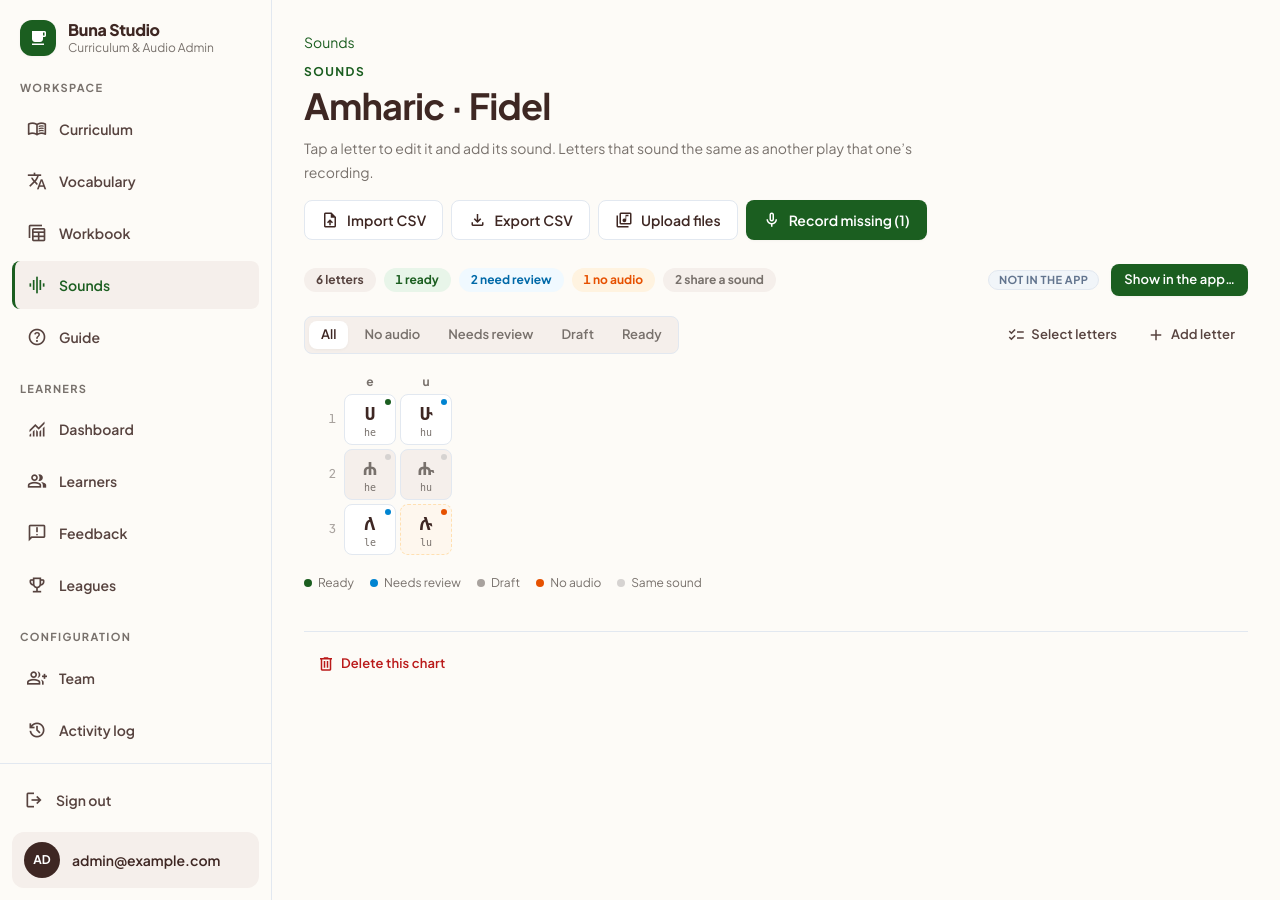
Test: a chart › marks many letters ready at once, skipping any that cannot be
The width and height of the screenshot is (1280, 900).
Click the button "Select letters" at (1062, 335), box [994,319,1130,351]
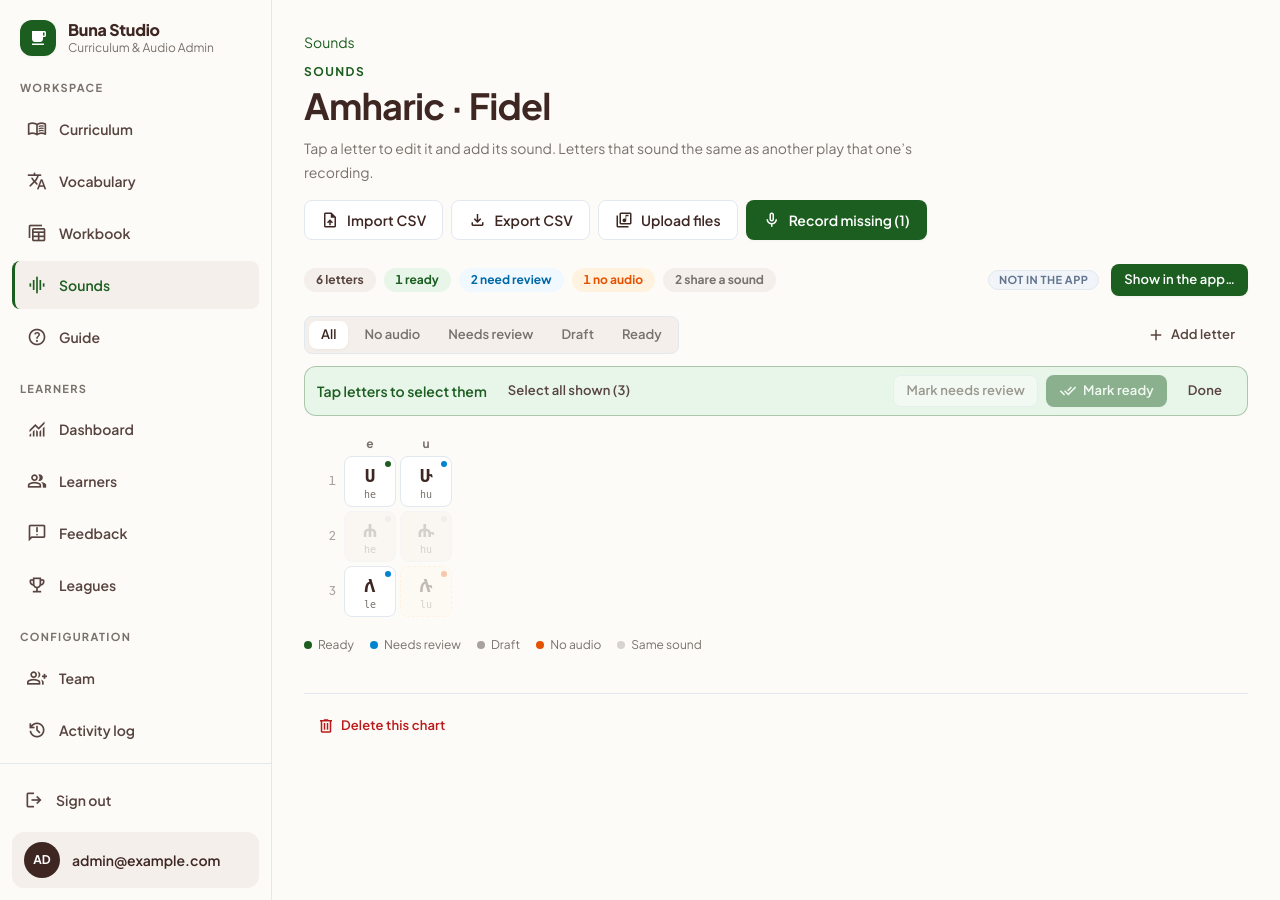
Expected: the button with aria-label "ሉ, lu: No audio" is disabled, [400,566,452,616]
Expected: the button "Mark ready" is disabled, [1046,374,1167,406]
Only those that need review, from the filter.
Click the button "Needs review" at (491, 335), box [436,321,546,348]
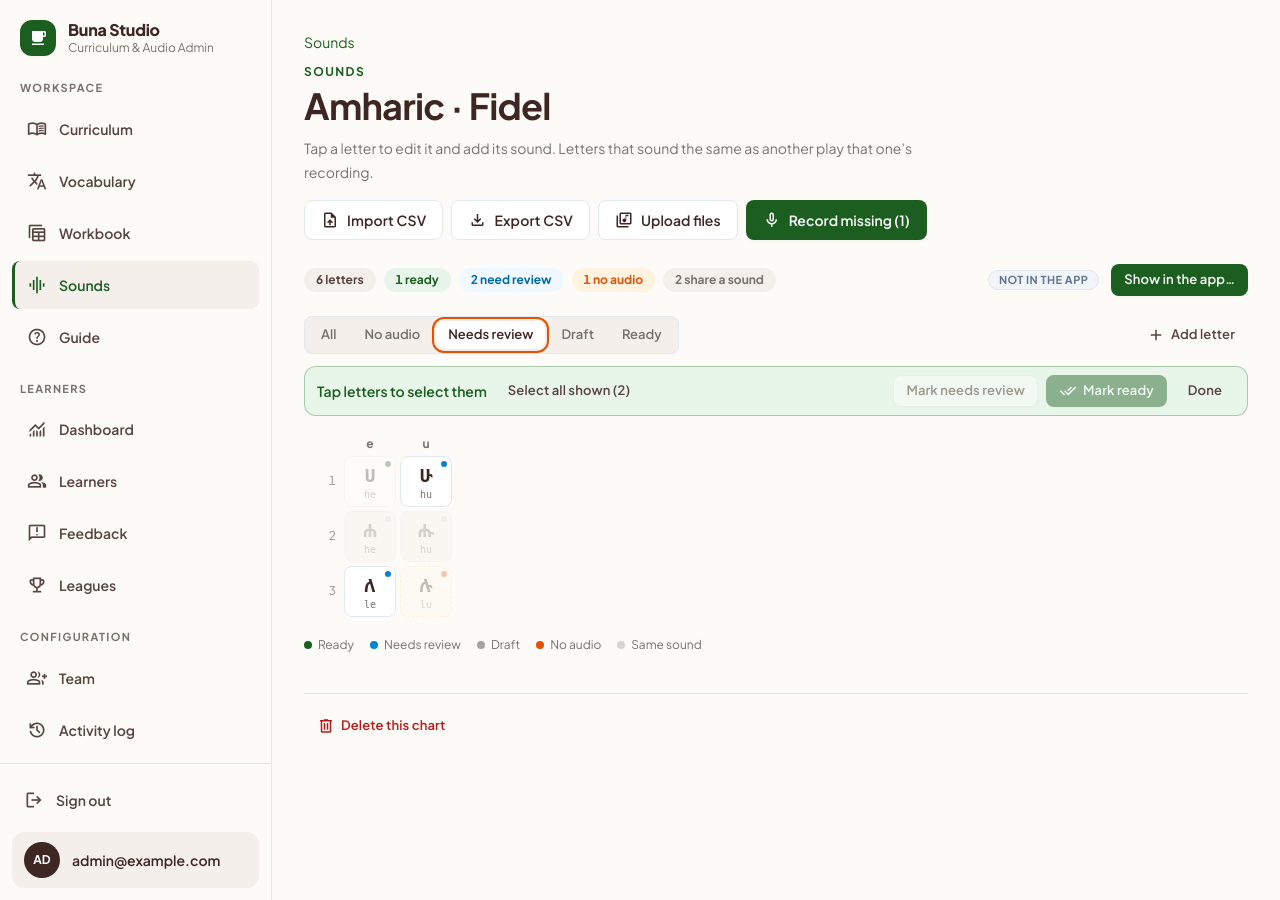
Click the button "Select all shown (2)" at (569, 390), box [495,374,643,406]
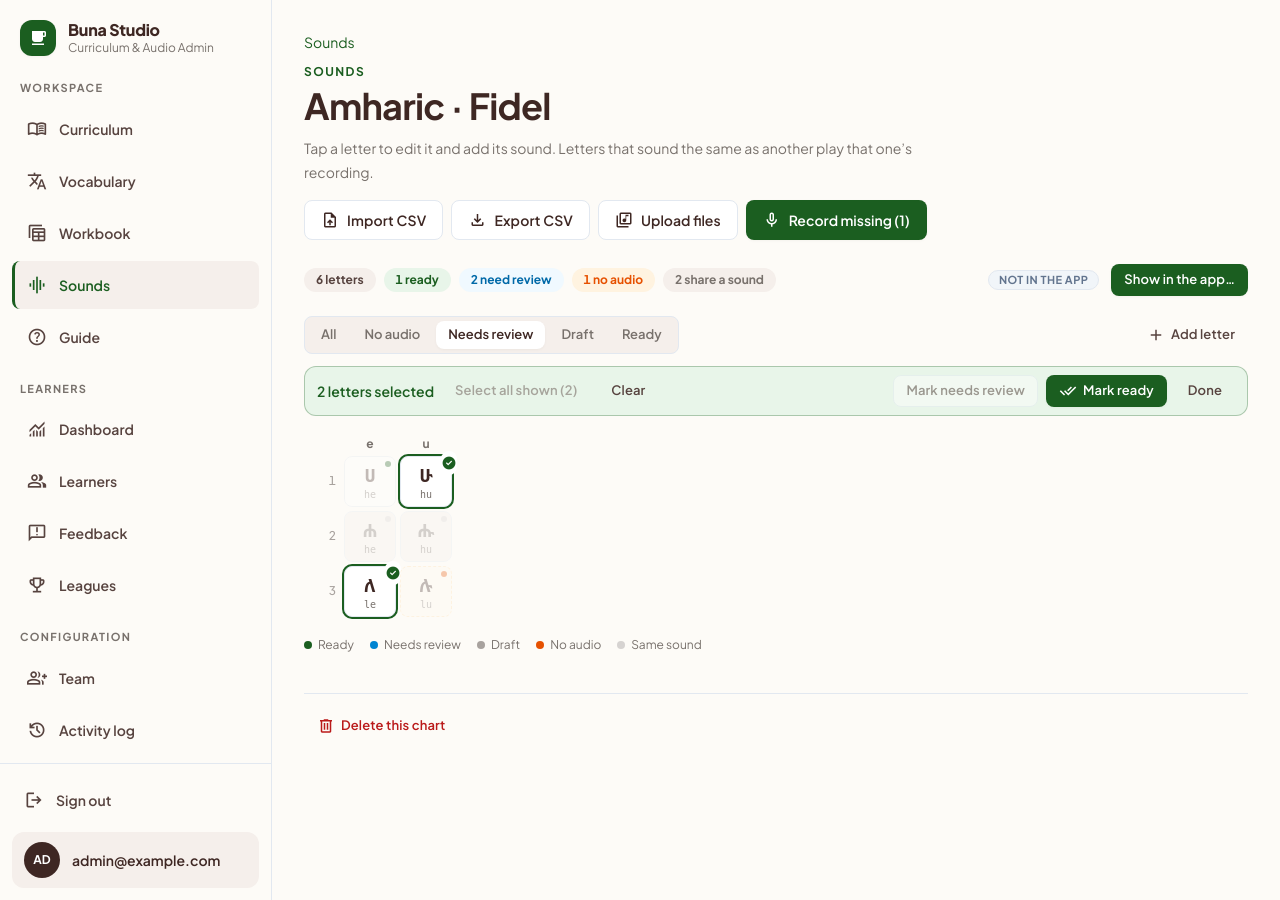
Expected: the text "2 letters selected" is shown, [317,380,434,400]
ሀ is ready already, so picking it changes nothing more.
Click the button with aria-label "ሀ, he: Ready" at (370, 481), box [344,456,396,506]
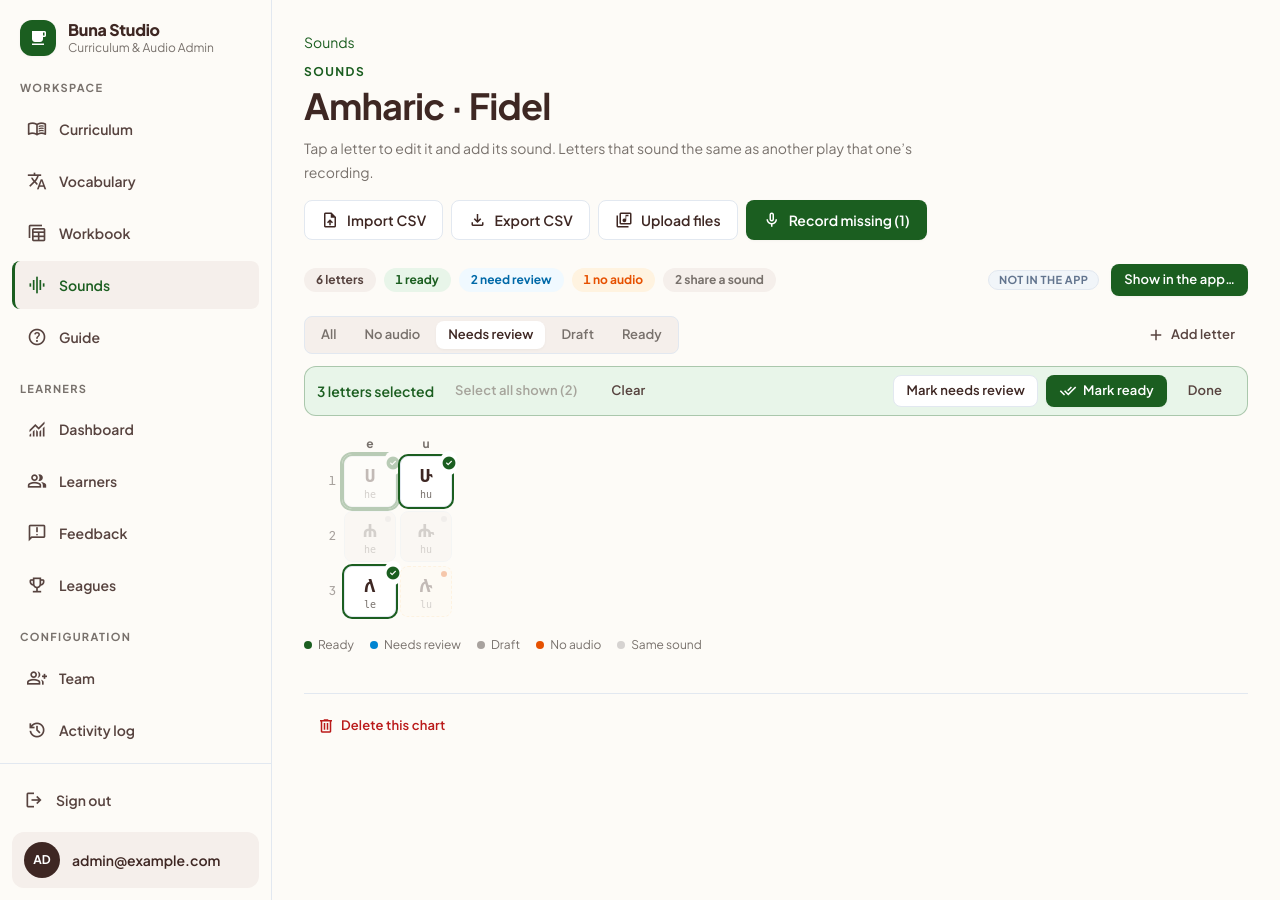
Expected: the text "3 letters selected" is shown, [317,380,434,400]
Click the button "Mark ready" at (1106, 390), box [1046,374,1167,406]
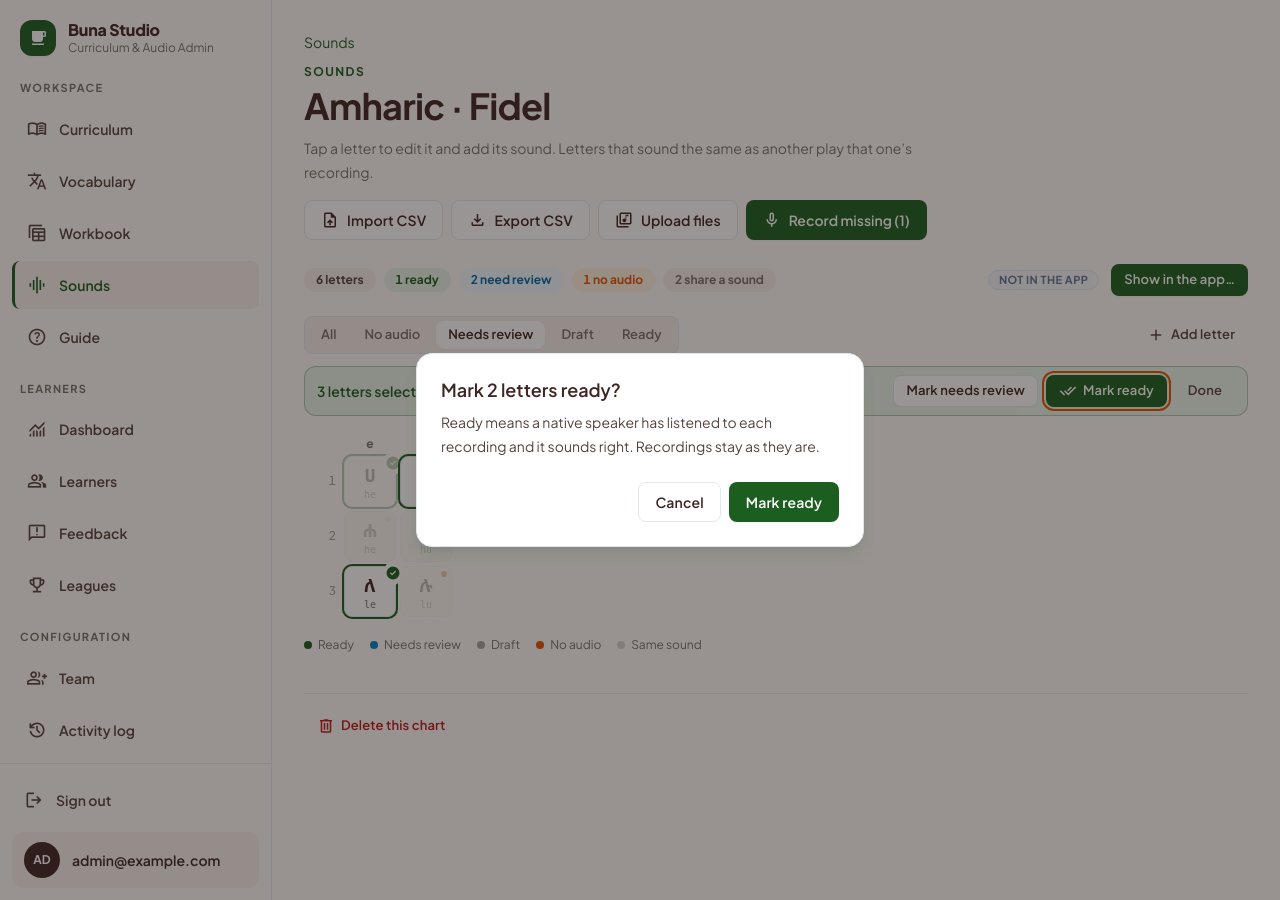
Click the button "Mark ready" at (784, 502), box [729,482,839,522]
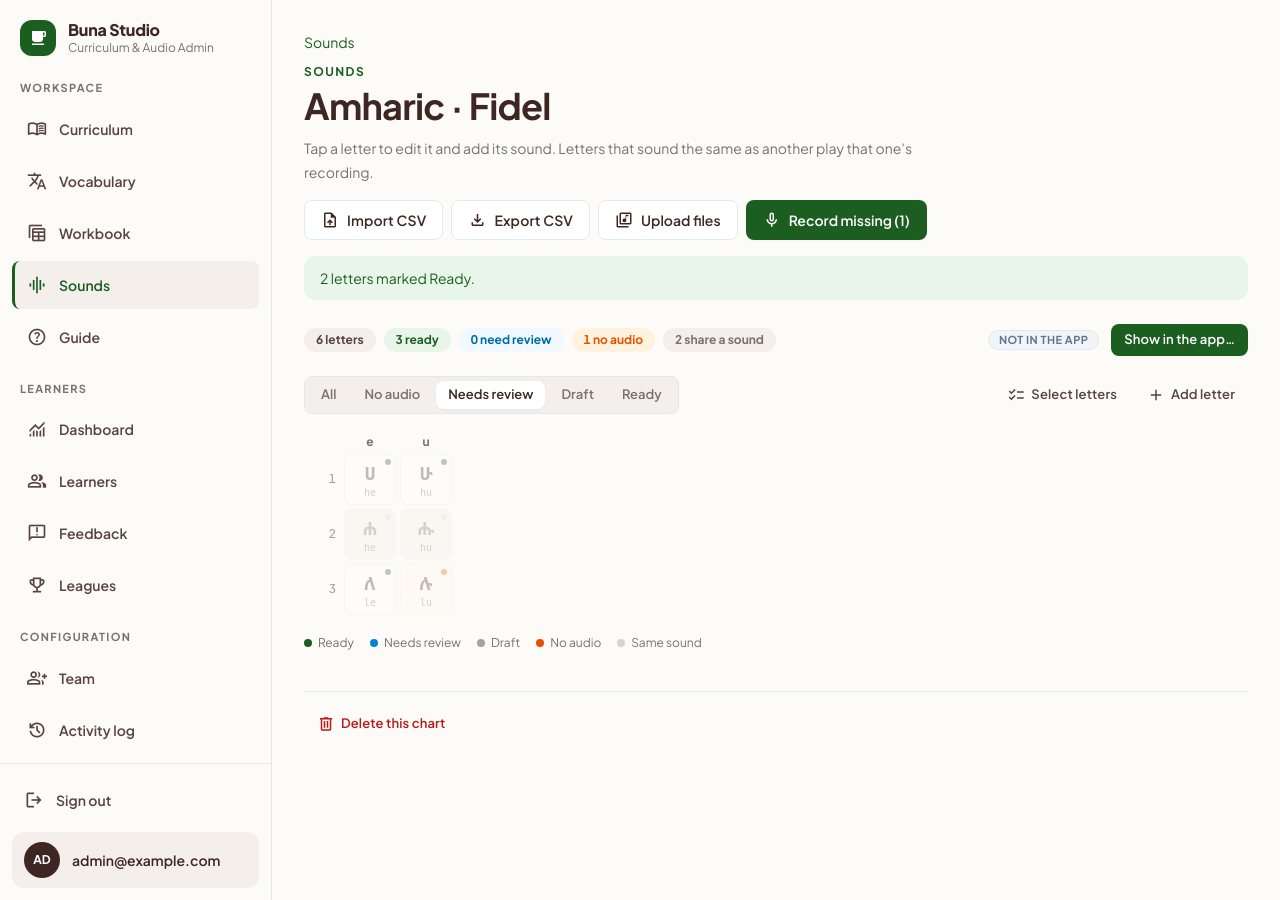
Expected: the link with aria-label "ለ, le: Ready" is shown, [344,564,396,614]
Expected: the message reads "2 letters marked Ready.", [320,269,475,287]
